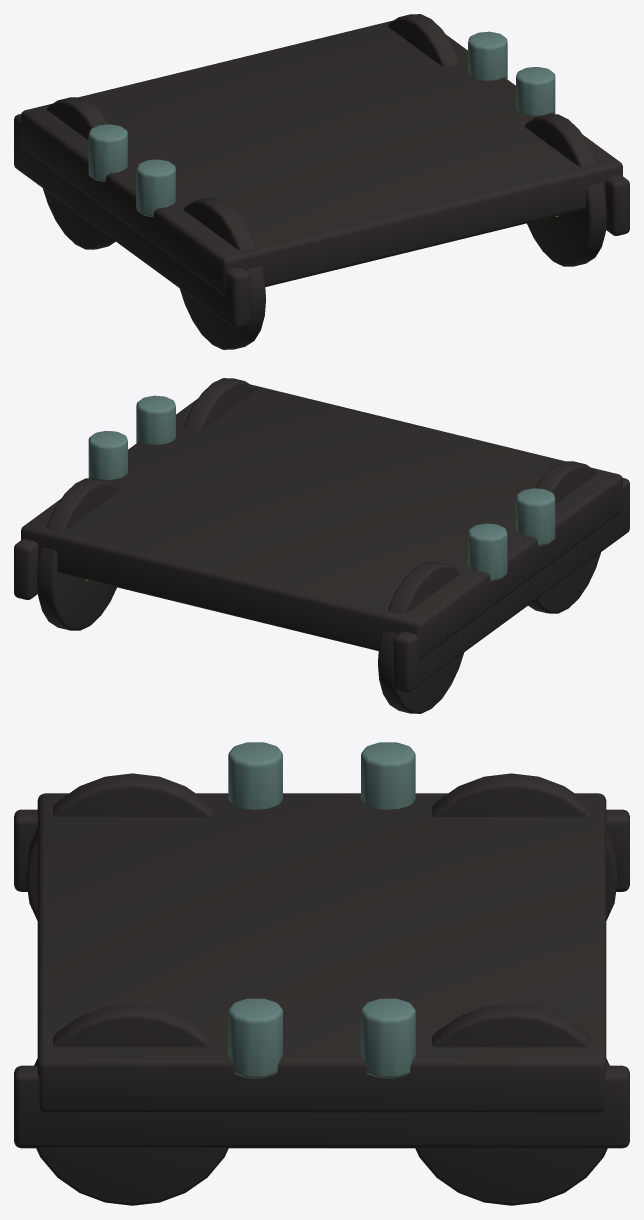
Rendered from bogie.glb.
The picture shows the model from 3 angles, top to bottom: view 1: azimuth 30°, elevation 25°; view 2: azimuth 150°, elevation 25°; view 3: azimuth 270°, elevation 25°; orthographic projection. The views are drawn at different scales.
Parts seen in each view (by area): view 1: bframe, side-1, w1-0.8_t, w-1-0.8_t, w-10.8_t, spring-1-0.8, spring-10.8, w10.8_t, spring10.8, spring1-0.8, side1; view 2: bframe, side-1, w10.8_t, w-10.8_t, w-1-0.8_t, spring-10.8, spring-1-0.8, w1-0.8_t, spring1-0.8, spring10.8, side1; view 3: bframe, side1, w1-0.8_t, w10.8_t, w-1-0.8_t, w-10.8_t, spring10.8, spring1-0.8, spring-1-0.8, spring-10.8, side-1.
Part boxes in pixels (bbox=[...]): bframe: bbox=[21, 20, 622, 295]; side-1: bbox=[14, 114, 250, 328]; w1-0.8_t: bbox=[525, 114, 606, 266]; w-1-0.8_t: bbox=[179, 197, 265, 349]; w-10.8_t: bbox=[43, 97, 115, 249]; spring-1-0.8: bbox=[136, 159, 175, 217]; spring-10.8: bbox=[88, 124, 127, 181]; w10.8_t: bbox=[388, 14, 459, 66]; spring10.8: bbox=[468, 31, 507, 80]; spring1-0.8: bbox=[516, 67, 555, 115]; side1: bbox=[605, 175, 629, 235]; bframe: bbox=[21, 384, 622, 659]; side-1: bbox=[393, 478, 629, 692]; w10.8_t: bbox=[37, 478, 118, 630]; w-10.8_t: bbox=[378, 561, 464, 713]; w-1-0.8_t: bbox=[528, 461, 600, 613]; spring-10.8: bbox=[468, 523, 507, 581]; spring-1-0.8: bbox=[516, 488, 555, 545]; w1-0.8_t: bbox=[184, 378, 255, 430]; spring1-0.8: bbox=[136, 395, 175, 444]; spring10.8: bbox=[88, 431, 127, 479]; side1: bbox=[14, 539, 38, 599]; bframe: bbox=[37, 793, 606, 1112]; side1: bbox=[14, 1065, 629, 1148]; w1-0.8_t: bbox=[34, 1003, 228, 1205]; w10.8_t: bbox=[415, 1003, 609, 1205]; w-1-0.8_t: bbox=[26, 773, 211, 920]; w-10.8_t: bbox=[432, 773, 617, 920]; spring10.8: bbox=[361, 998, 415, 1078]; spring1-0.8: bbox=[228, 998, 282, 1078]; spring-1-0.8: bbox=[228, 742, 282, 809]; spring-10.8: bbox=[361, 742, 415, 809]; side-1: bbox=[14, 809, 629, 891].
Size of the model in its own units: 2.79 by 0.96 by 2.6.
